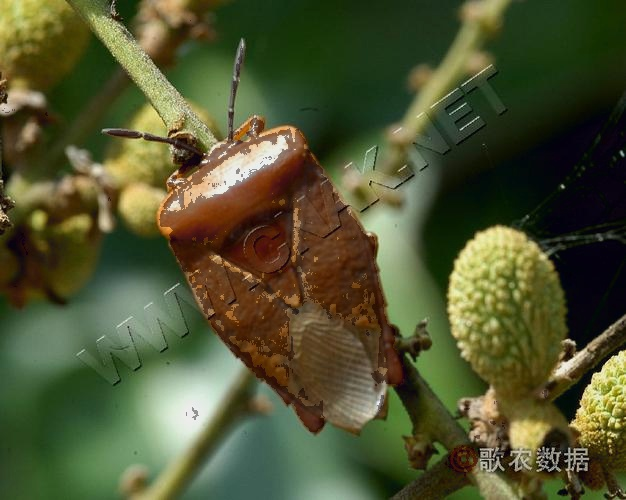Stink_Bug: (128, 106, 431, 385)
